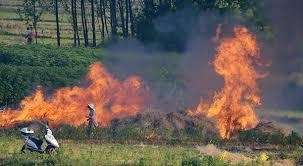fire: (0, 58, 147, 141), (184, 22, 271, 134)
